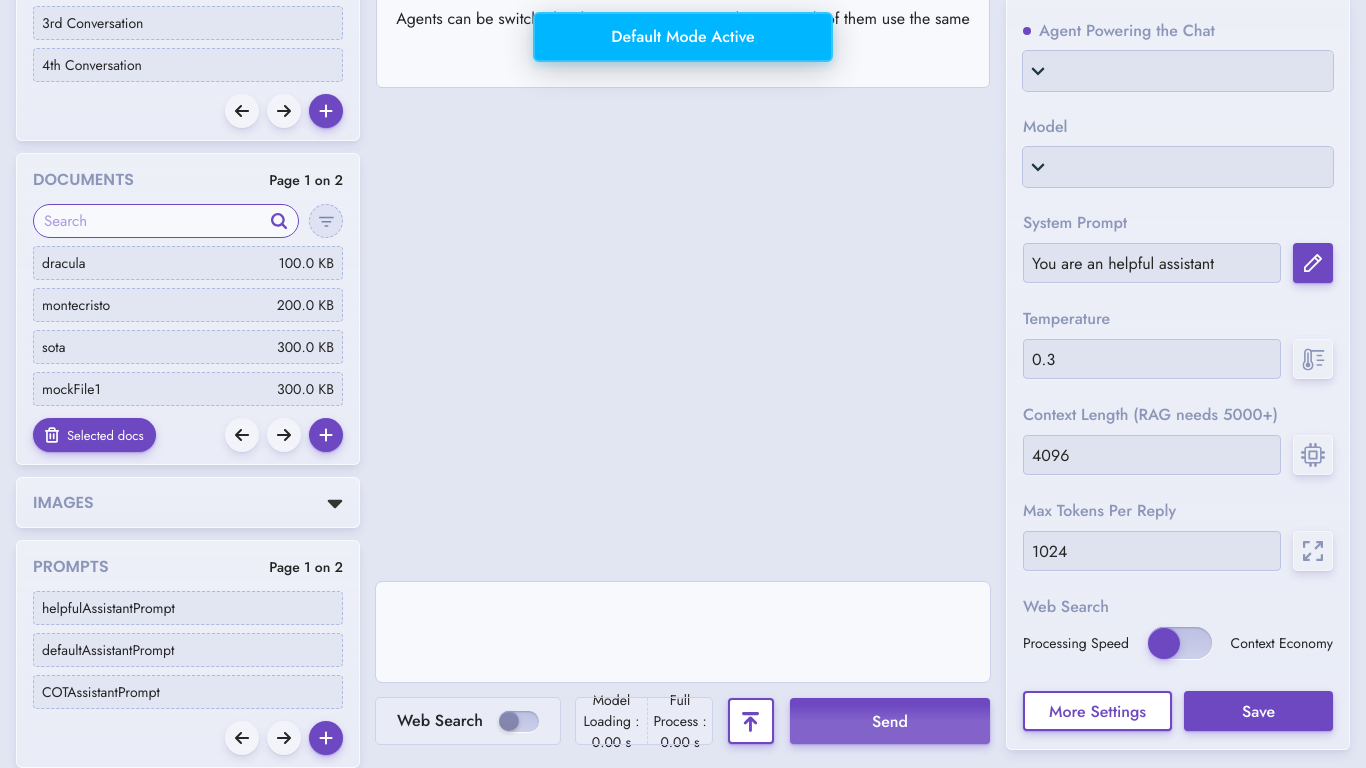
Scenario: Given I am on the Chat page › Can navigate between Prompts
This screenshot has width=1366, height=768.
(page scrolled)
Check: the list item "helpfulAssistantPrompt" is shown, box left=33, top=591, right=343, bottom=625
Check: the list item "defaultAssistantPrompt" is shown, box left=33, top=633, right=343, bottom=667
What coordinates should you click on to do the following:
click the button titled "next page" below "COTAssistantPrompt"
I would click on:
 (284, 738)
Its box is left=267, top=721, right=301, bottom=755.
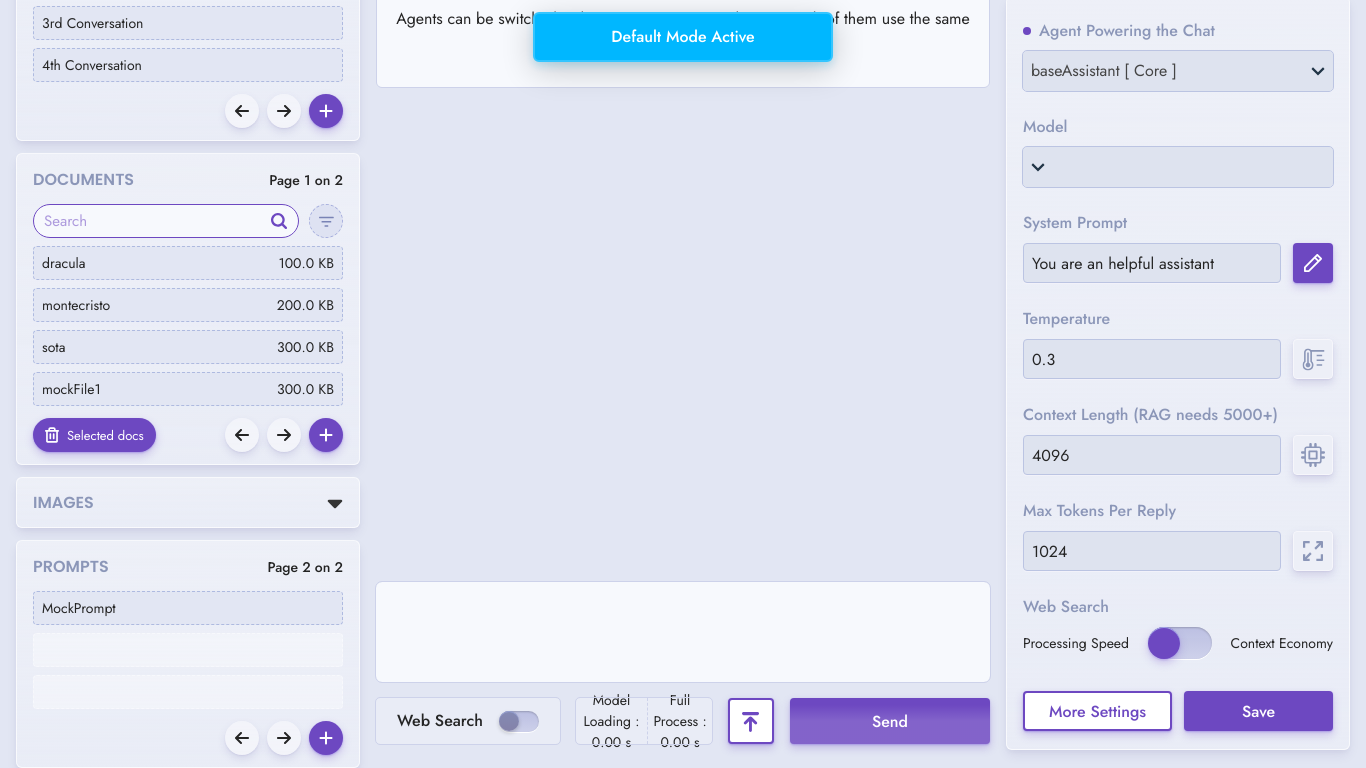
Check: the list item "MockPrompt" is shown, box left=33, top=591, right=343, bottom=625
Check: the list item "helpfulAssistantPrompt" is gone
What coordinates should you click on to do the following:
click the button titled "previous page" below "MockPrompt"
I would click on:
 (242, 738)
Its box is left=225, top=721, right=259, bottom=755.
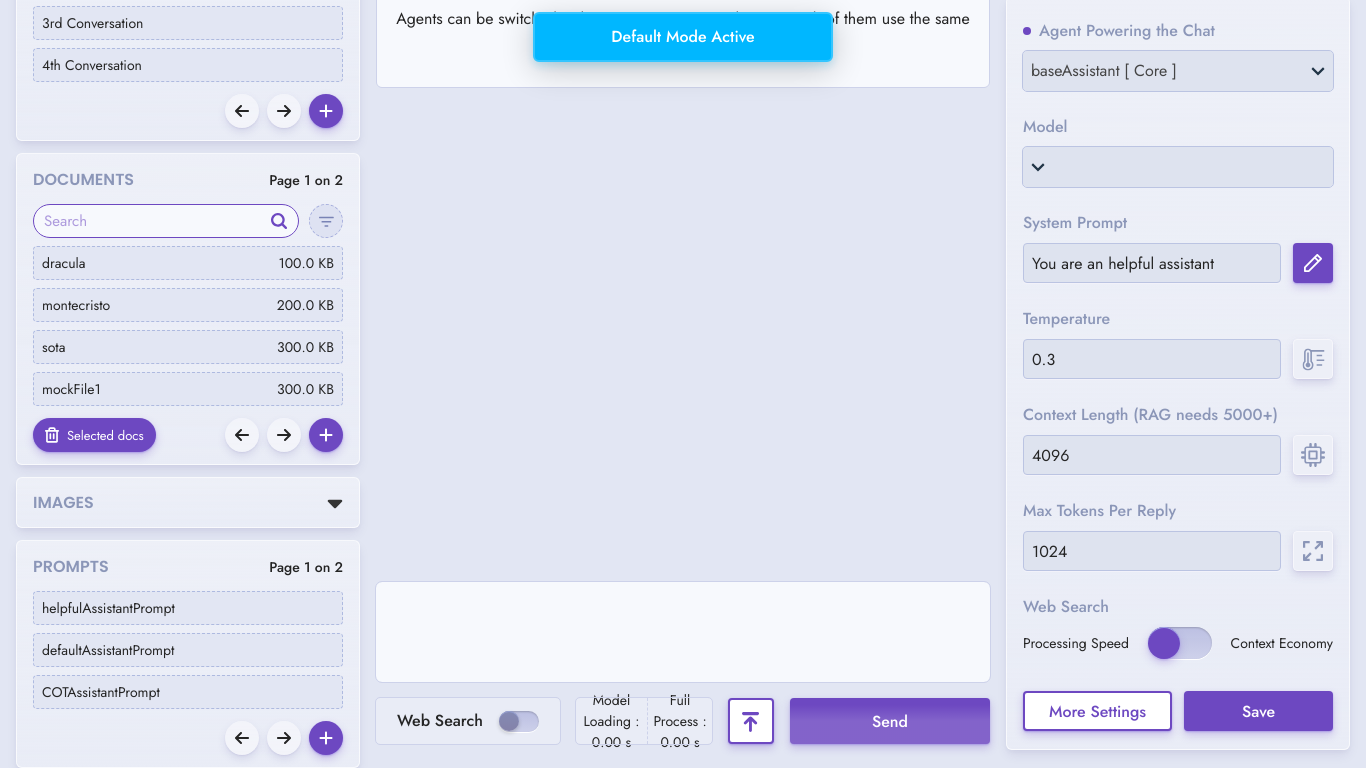
Check: the list item "helpfulAssistantPrompt" is shown, box left=33, top=591, right=343, bottom=625
Check: the list item "MockPrompt" is gone
